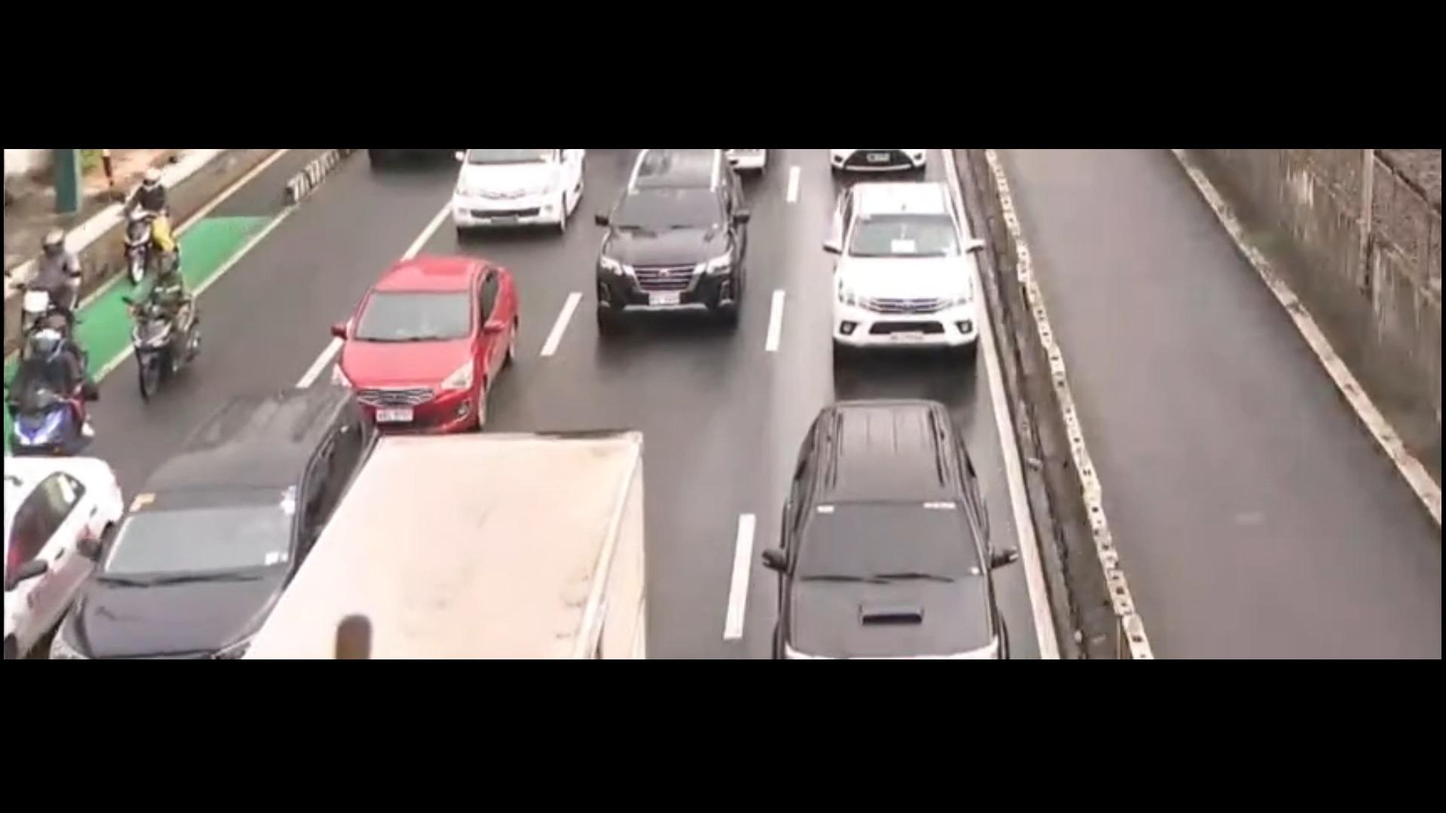Motorcycle: (0, 319, 111, 446), (122, 258, 219, 399), (6, 221, 95, 334), (119, 157, 200, 277)
SUV: (57, 392, 373, 658), (750, 396, 1034, 658), (579, 149, 774, 348)
Sedan: (305, 245, 539, 450), (801, 162, 989, 378), (0, 420, 143, 655)
Truck: (234, 414, 686, 661)
